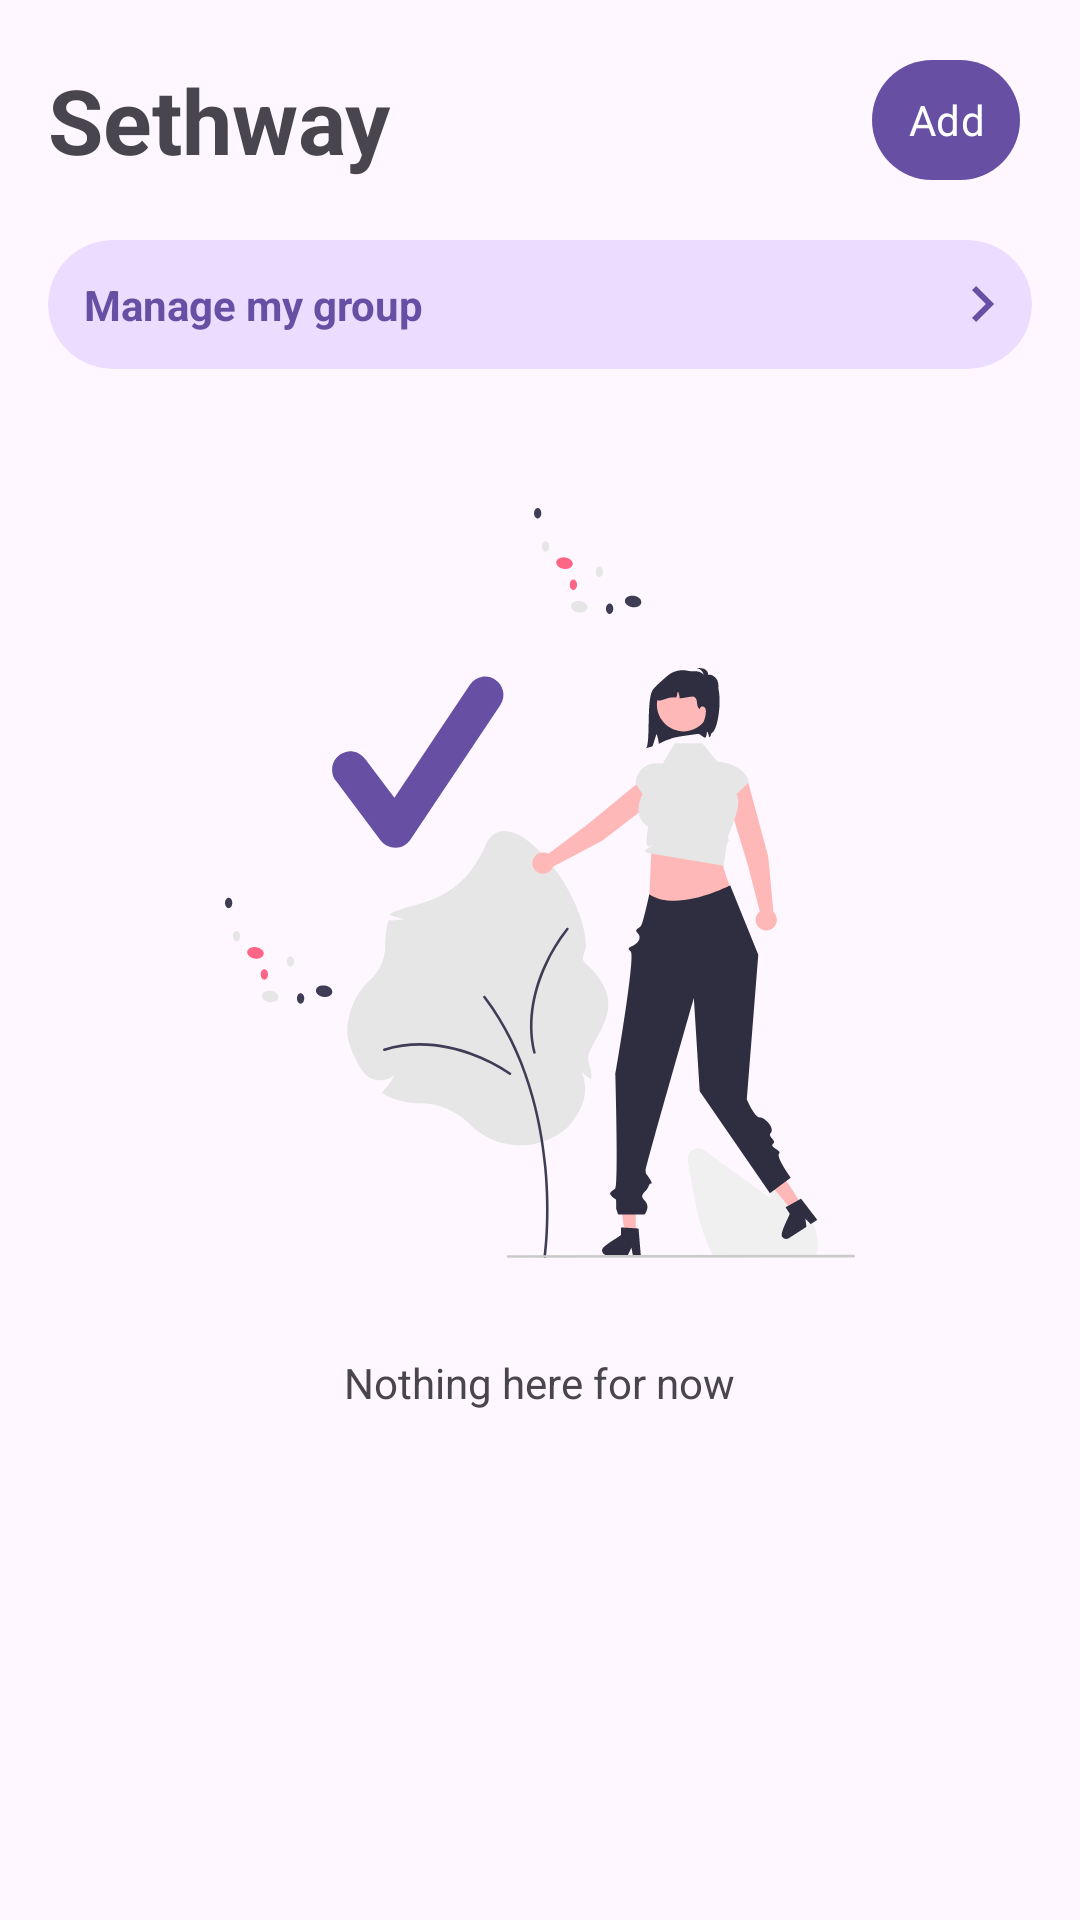

Icon click points for this 1080x1920 phone screenshot, format (x=x, y=y):
chevron right: (x=983, y=304)
